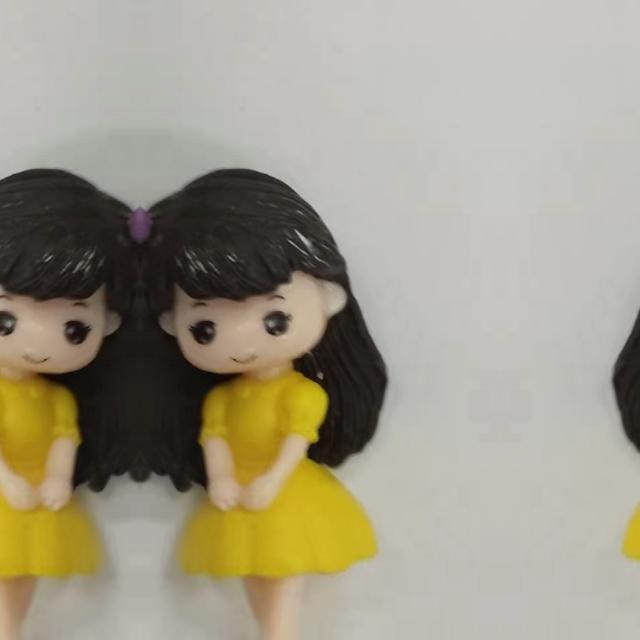woman dress: (173, 356, 369, 636), (0, 356, 107, 636), (631, 356, 640, 636)
woman head: (142, 166, 370, 377), (0, 165, 138, 376), (629, 165, 640, 376)
